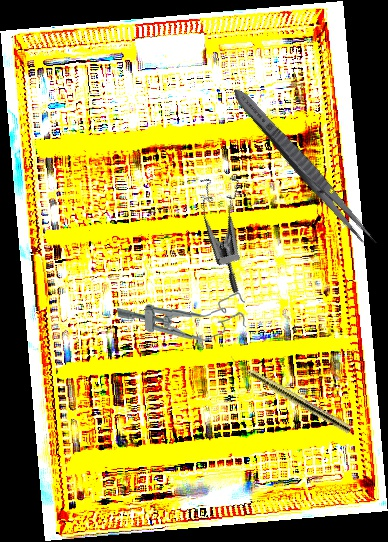Dressing Forceps: (226, 82, 383, 253)
Handpiece: (225, 354, 354, 435)
Speculum: (179, 164, 284, 296), (116, 291, 248, 346)
